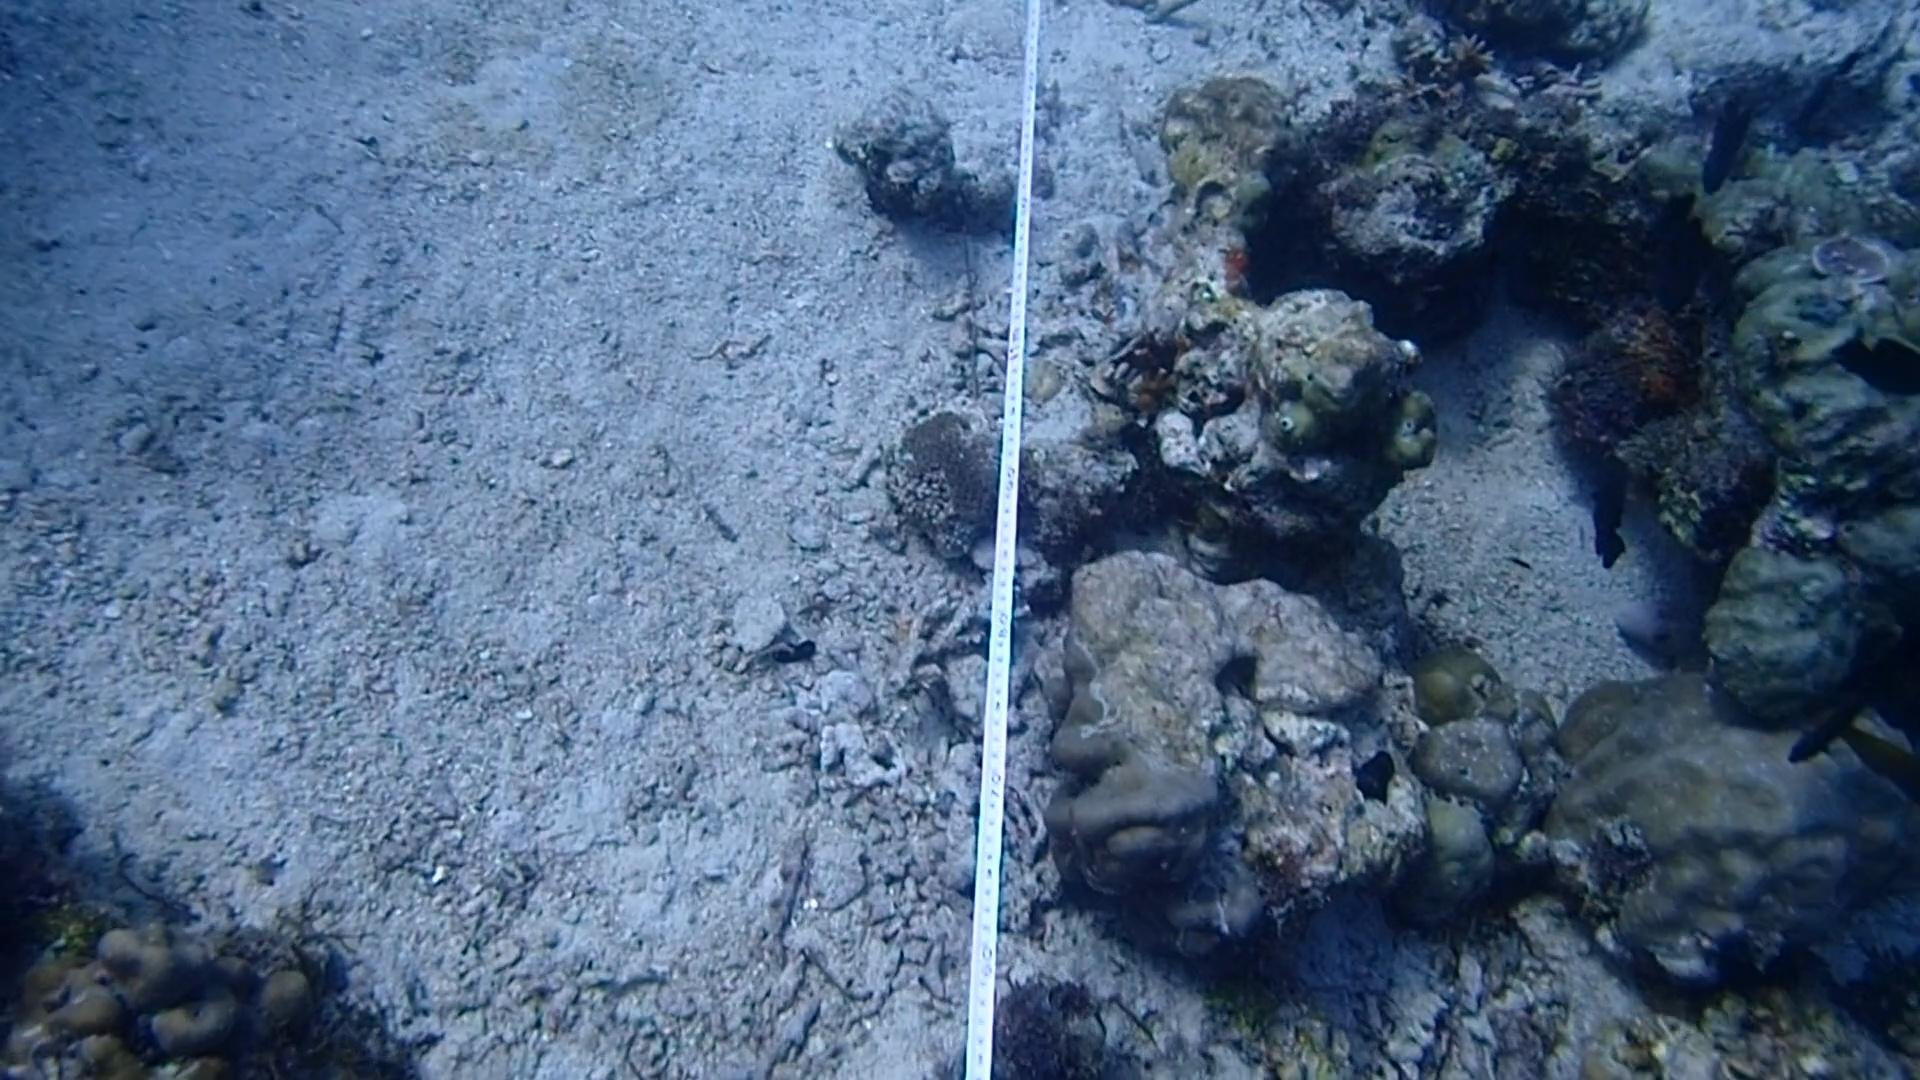Dark Fish: (1633, 183, 1720, 316), (1778, 671, 1876, 774), (1687, 87, 1767, 199), (1824, 320, 1920, 411), (1568, 450, 1639, 572)
